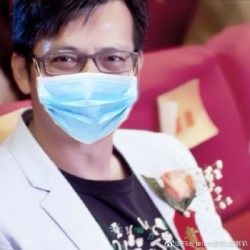mask: (29, 56, 145, 152)
